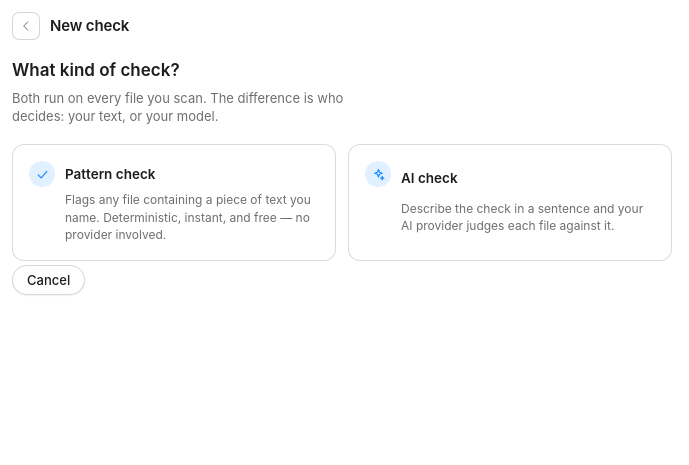
Test case: AddCheck › keeps the form on screen and says so when the save does not land
Click the button "Pattern check".
click(174, 202)  # box [12, 144, 336, 260]
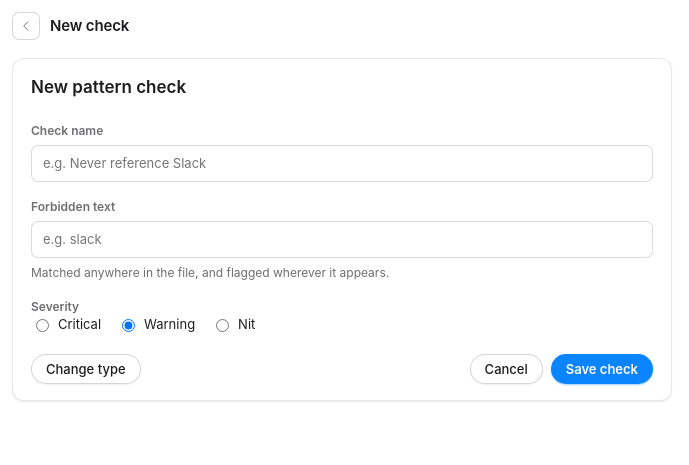
Type "Never say synergy" into the field labelled "Check name".
click(342, 163); type("Never say synergy")  # box [31, 145, 653, 182]
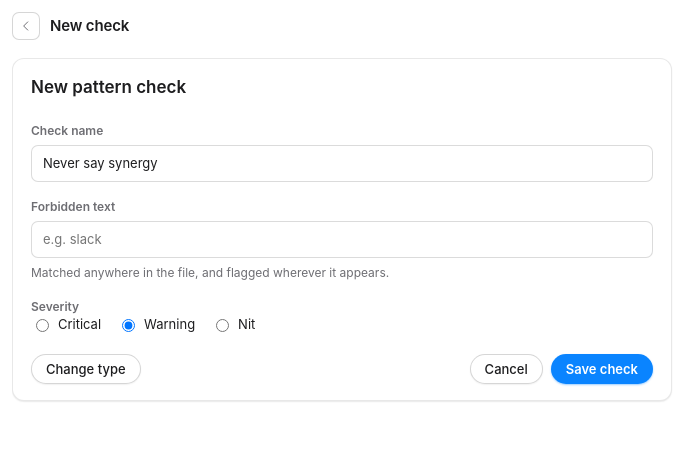
Type "synergy" into the field labelled "Forbidden text".
click(342, 240); type("synergy")  # box [31, 221, 653, 258]
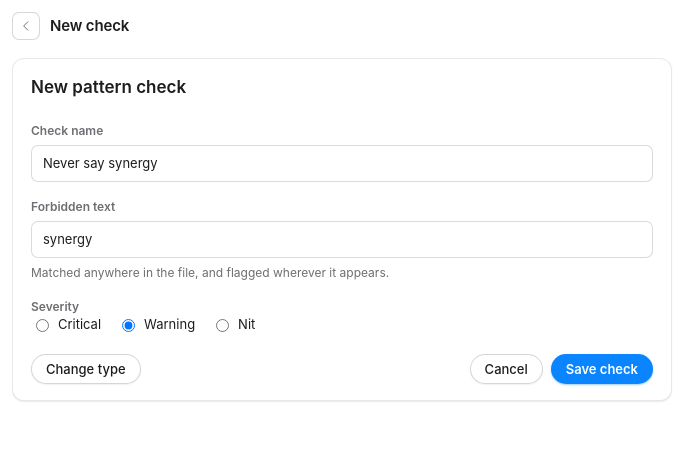
Click the button "Save check".
click(602, 369)  # box [551, 354, 653, 384]
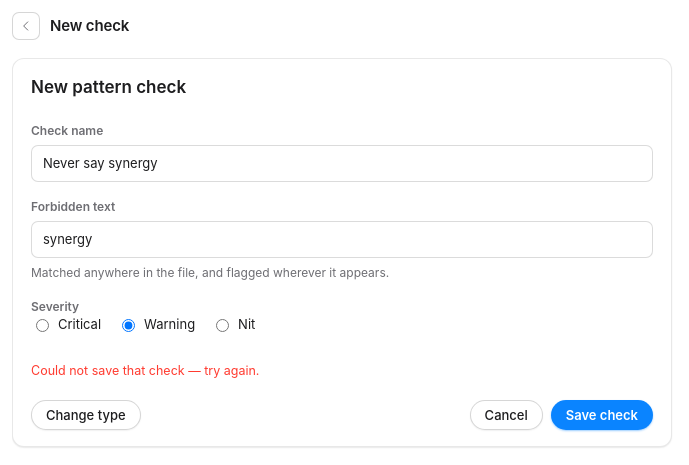
Check: the message shows "Could not save", box [31, 363, 259, 378]
